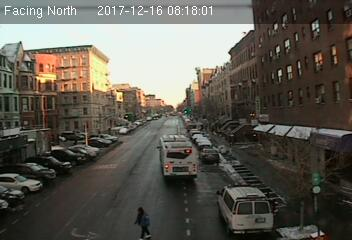bus: (156, 135, 198, 183)
car: (200, 148, 219, 163)
police: (213, 182, 274, 234)
